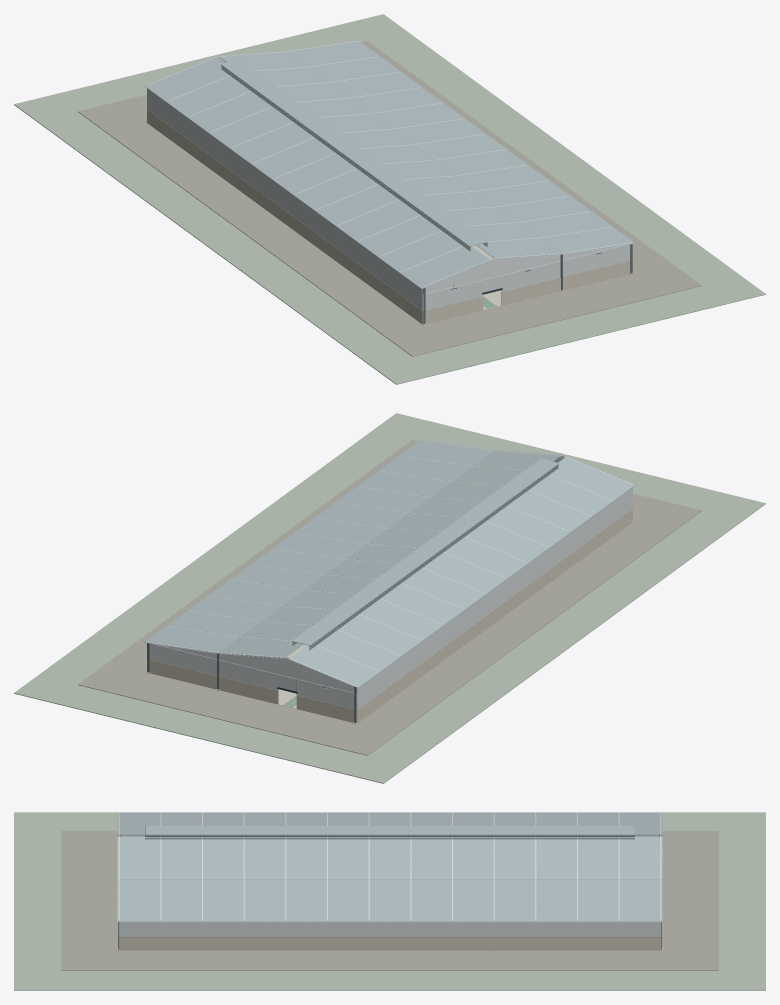
Rendered from factory-realism.glb.
3 views of the same model, one above another, from view 1: azimuth 30°, elevation 25°; view 2: azimuth 150°, elevation 25°; view 3: azimuth 270°, elevation 25° (orthographic).
Parts seen in each view (by area): view 1: M00_0000, M00_0001, M07_0271, M07_0273, M07_0272, M08_0004, M07_0297, M08_0003, M08_0016, M08_0296, M08_0015, M08_0014 (+1 smaller); view 2: M00_0000, M00_0001, M07_0271, M07_0273, M07_0272, M08_0004, M07_0297, M08_0003, M08_0010, M08_0295, M08_0009, M08_0008 (+1 smaller); view 3: M00_0000, M00_0001, M07_0272, M07_0273, M08_0006, M07_0271, M08_0005, M07_0297, M08_0004, M05_0308, M05_0304, M05_0305 (+3 smaller).
Boxes of the visible parts, x1,y1,x2,y2 form: M00_0000: [14, 14, 765, 384]; M00_0001: [78, 41, 701, 356]; M07_0271: [144, 57, 490, 288]; M07_0273: [285, 40, 635, 254]; M07_0272: [218, 51, 562, 259]; M08_0004: [147, 88, 423, 310]; M07_0297: [221, 60, 487, 246]; M08_0003: [147, 109, 422, 323]; M08_0016: [501, 244, 630, 291]; M08_0296: [423, 246, 619, 293]; M08_0015: [501, 260, 630, 305]; M08_0014: [423, 280, 483, 310]; M00_0000: [14, 413, 765, 783]; M00_0001: [78, 440, 701, 755]; M07_0271: [289, 456, 635, 687]; M07_0273: [144, 439, 494, 653]; M07_0272: [217, 450, 561, 658]; M08_0004: [356, 487, 632, 709]; M07_0297: [292, 459, 558, 645]; M08_0003: [357, 508, 632, 722]; M08_0010: [149, 643, 278, 690]; M08_0295: [160, 645, 354, 692]; M08_0009: [149, 659, 278, 704]; M08_0008: [296, 679, 356, 709]; M00_0000: [14, 812, 765, 990]; M00_0001: [61, 831, 718, 970]; M07_0272: [117, 836, 662, 879]; M07_0273: [117, 880, 662, 921]; M08_0006: [119, 922, 660, 937]; M07_0271: [117, 812, 662, 834]; M08_0005: [119, 937, 660, 950]; M07_0297: [145, 826, 634, 834]; M08_0004: [120, 834, 659, 836]; M05_0308: [145, 835, 634, 836]; M05_0304: [145, 839, 634, 839]; M05_0305: [145, 838, 634, 838].
Bounding box in the file's own units: 120 × 17.23 × 215.
Materials: 19 (8 with a texture image).
